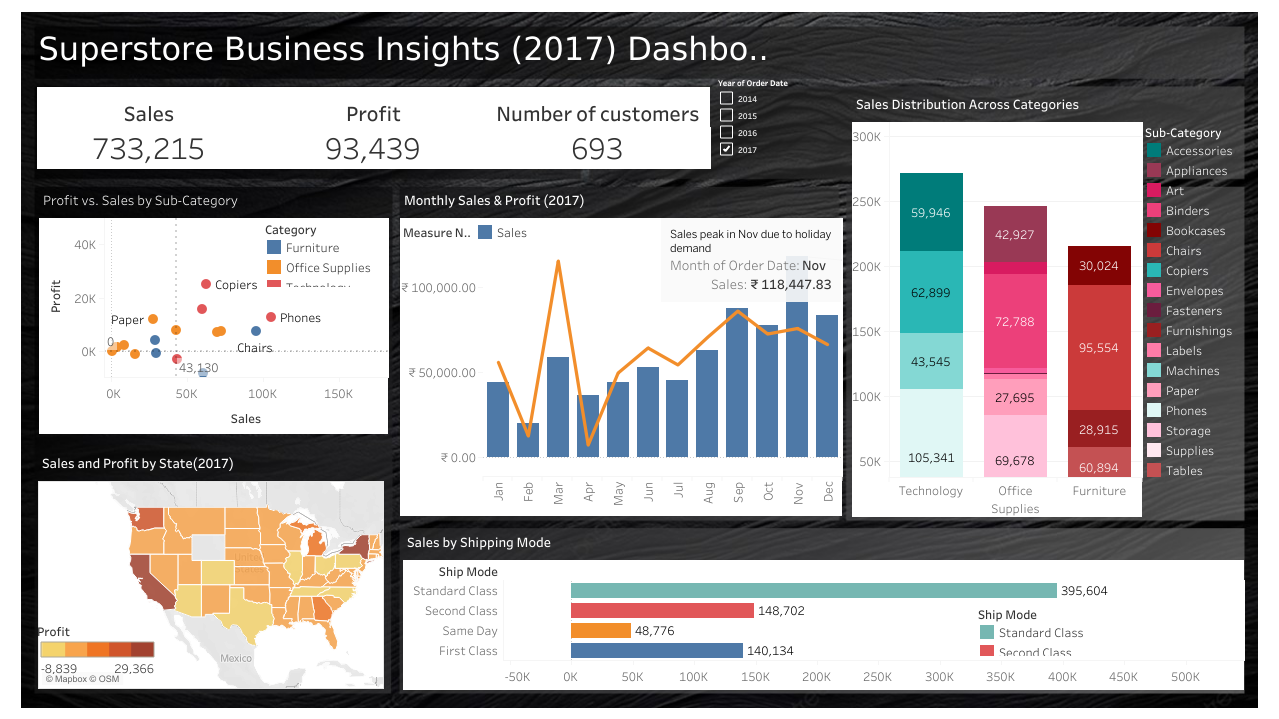

The dashboard page shown, as its layout file describes it:
{"tool":"tableau","page":{"name":"Dashboard 1","canvas":[1280,720],"ordinal":0},"visuals":[{"type":"image","param":"Image/background.jpg","box":[8,8,1264,704]},{"type":"text","box":[36,24,735,50]},{"type":"filter","title":"KPIs","param":"[federated.09oawkp0w18m0r1aakvj11lkhdgb].[yr:Order Date:ok]","box":[718,76,115,93]},{"type":"worksheet","title":"KPIs","mark":"Automatic","box":[37,87,673,86]},{"type":"worksheet","title":"Sales Distribution Across Categories","mark":"Bar","rows":["Sales"],"cols":["Category"],"box":[852,88,290,429]},{"type":"legend","title":"Sales Distribution Across Categories","param":"[federated.09oawkp0w18m0r1aakvj11lkhdgb].[none:Sub-Category:nk]","box":[1144,121,97,396]},{"type":"worksheet","title":"Profit vs. Sales by Sub-Category","mark":"Circle","rows":["Profit"],"cols":["Sales"],"box":[39,184,349,250]},{"type":"worksheet","title":"Monthly Sales & Profit (2017)","mark":"Line","rows":["Sales","Profit"],"cols":["Order Date"],"box":[400,184,442,332]},{"type":"legend","title":"Profit vs. Sales by Sub-Category","param":"[federated.09oawkp0w18m0r1aakvj11lkhdgb].[none:Category:nk]","box":[264,218,121,69]},{"type":"legend","title":"Monthly Sales & Profit (2017)","param":"[federated.09oawkp0w18m0r1aakvj11lkhdgb].[:Measure Names]","box":[403,222,140,38]},{"type":"worksheet","title":"Sales and Profit by State(2017)","mark":"Multipolygon","box":[38,447,346,242]},{"type":"worksheet","title":"Sales by Shipping Mode","mark":"Automatic","rows":["Ship Mode"],"cols":["Sales"],"box":[403,526,841,189]},{"type":"legend","title":"Sales by Shipping Mode","param":"[federated.09oawkp0w18m0r1aakvj11lkhdgb].[none:Ship Mode:nk]","box":[977,603,218,53]},{"type":"legend","title":"Sales and Profit by State(2017)","param":"[federated.09oawkp0w18m0r1aakvj11lkhdgb].[sum:Profit:qk]","box":[37,618,122,56]}]}

Visuals, with their boxes in screenshot pixels (x1, y1, x2, y2), scaled from the page's 1280x720 canvas onto the 1279x719 screenshot:
image: <region>8, 8, 1271, 711</region>
text: <region>36, 24, 770, 74</region>
"KPIs" filter: <region>717, 76, 832, 169</region>
"KPIs" worksheet: <region>37, 87, 709, 173</region>
"Sales Distribution Across Categories" worksheet (Bar marks): <region>851, 88, 1141, 516</region>
"Sales Distribution Across Categories" legend: <region>1143, 121, 1240, 516</region>
"Profit vs. Sales by Sub-Category" worksheet (Circle marks): <region>39, 184, 388, 433</region>
"Monthly Sales & Profit (2017)" worksheet (Line marks): <region>400, 184, 841, 515</region>
"Profit vs. Sales by Sub-Category" legend: <region>264, 218, 385, 287</region>
"Monthly Sales & Profit (2017)" legend: <region>403, 222, 543, 260</region>
"Sales and Profit by State(2017)" worksheet (Multipolygon marks): <region>38, 446, 384, 688</region>
"Sales by Shipping Mode" worksheet: <region>403, 525, 1243, 714</region>
"Sales by Shipping Mode" legend: <region>976, 602, 1194, 655</region>
"Sales and Profit by State(2017)" legend: <region>37, 617, 159, 673</region>
